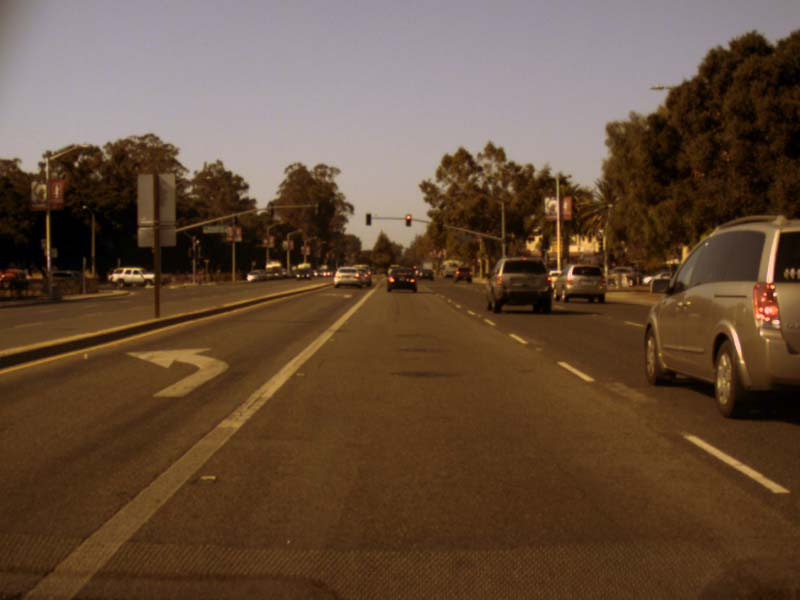Red: (542, 233, 548, 249), (405, 214, 411, 226), (437, 221, 442, 232)
